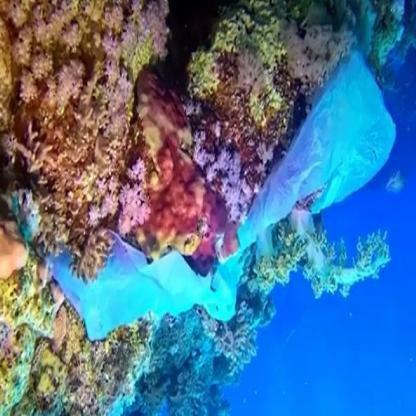plastic: (258, 51, 396, 298), (50, 218, 223, 338)
